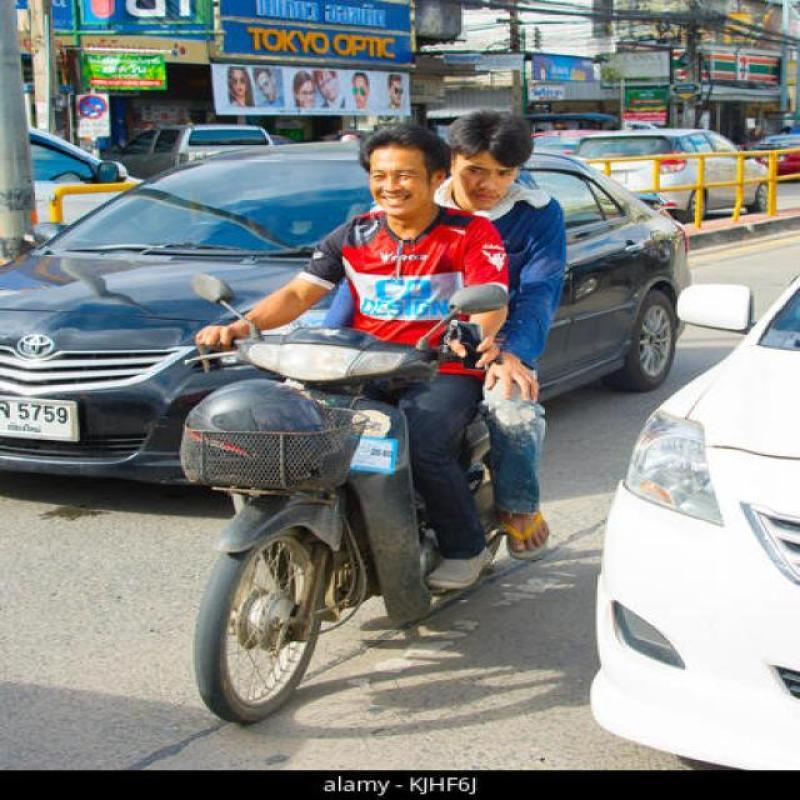nohelmet: (444, 103, 548, 217), (340, 121, 446, 210)
